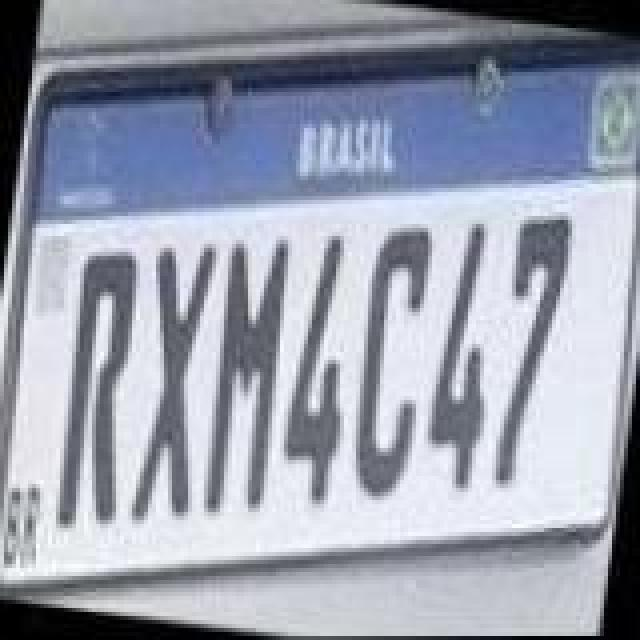4: (272, 230, 368, 510), (418, 214, 510, 490)
7: (480, 208, 576, 496)
C: (342, 216, 442, 504)
M: (194, 226, 302, 518)
R: (44, 242, 152, 534)
X: (120, 232, 228, 528)
